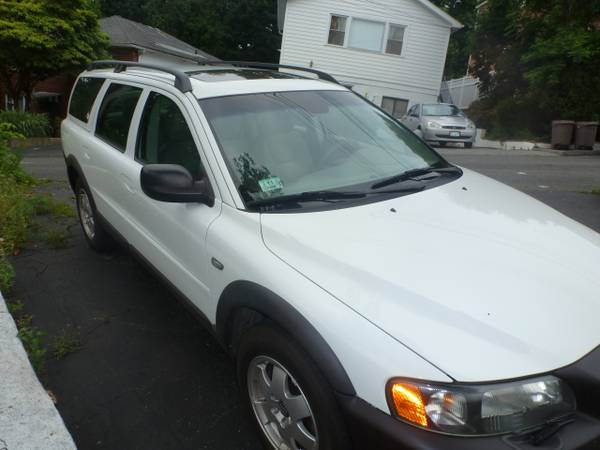volvo: (28, 43, 599, 449)
